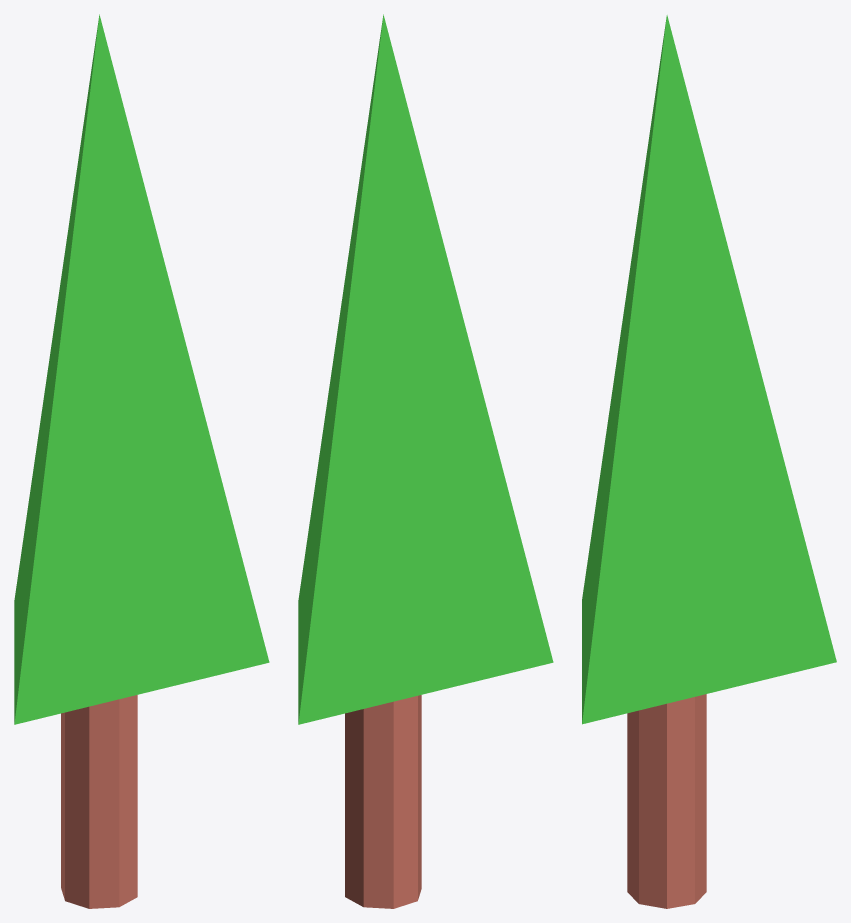
The model's file is ModernTree.fbx.
The picture shows the model from 3 angles, left to right: view 1: azimuth 30°, elevation 25°; view 2: azimuth 150°, elevation 25°; view 3: azimuth 270°, elevation 25°; orthographic projection.
Visible parts, largest first — view 1: Cone, Cylinder; view 2: Cone, Cylinder; view 3: Cone, Cylinder.
Part boxes in pixels (bbox=[...]): Cone: bbox=[14, 14, 269, 724]; Cylinder: bbox=[61, 695, 137, 908]; Cone: bbox=[298, 14, 553, 724]; Cylinder: bbox=[345, 695, 421, 908]; Cone: bbox=[582, 15, 836, 724]; Cylinder: bbox=[627, 694, 706, 908].
Bounding box in the file's own units: 173 × 570 × 150.
